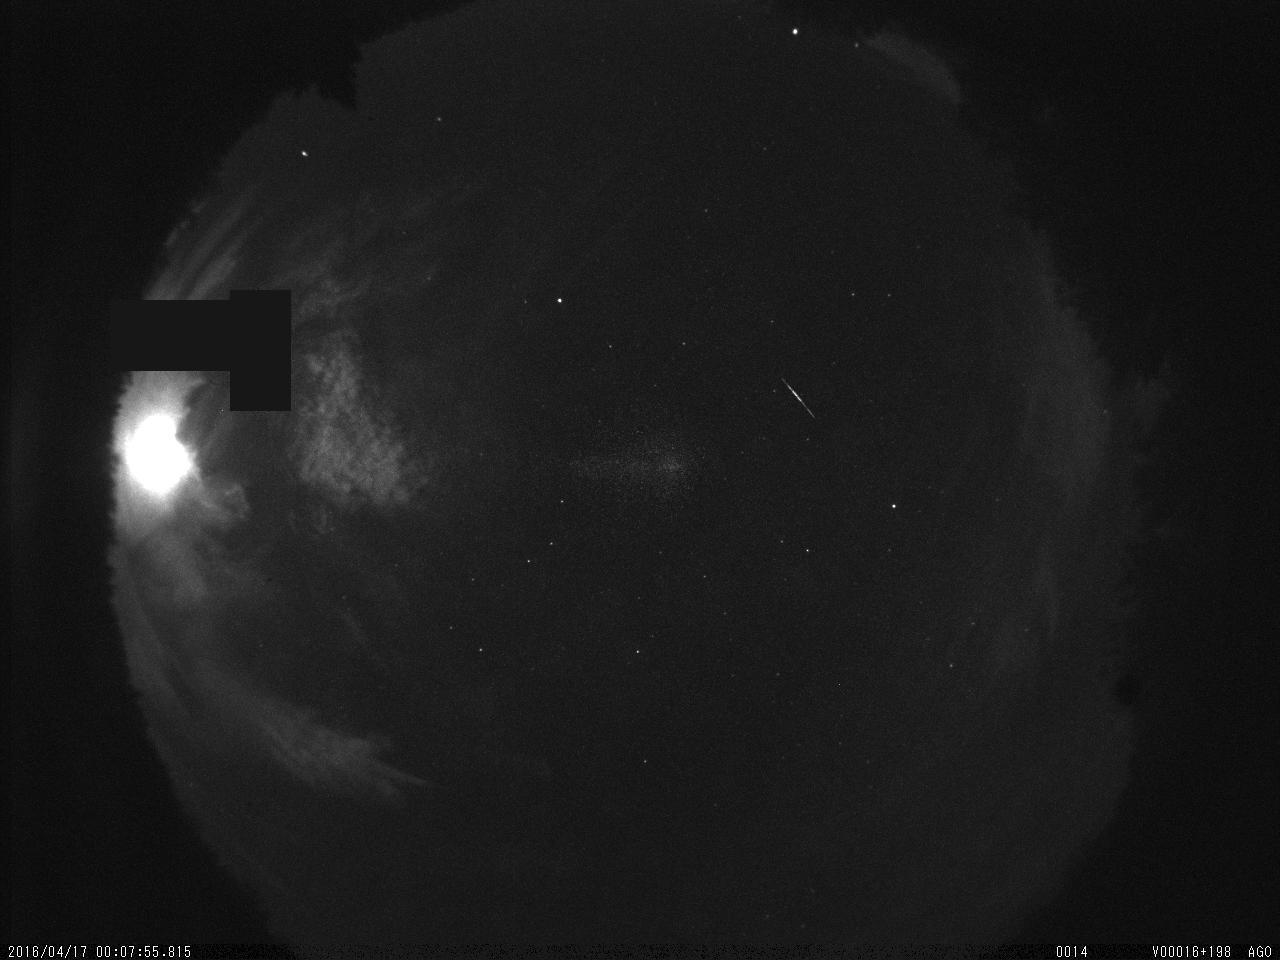Meteor: (775, 364, 827, 429)
